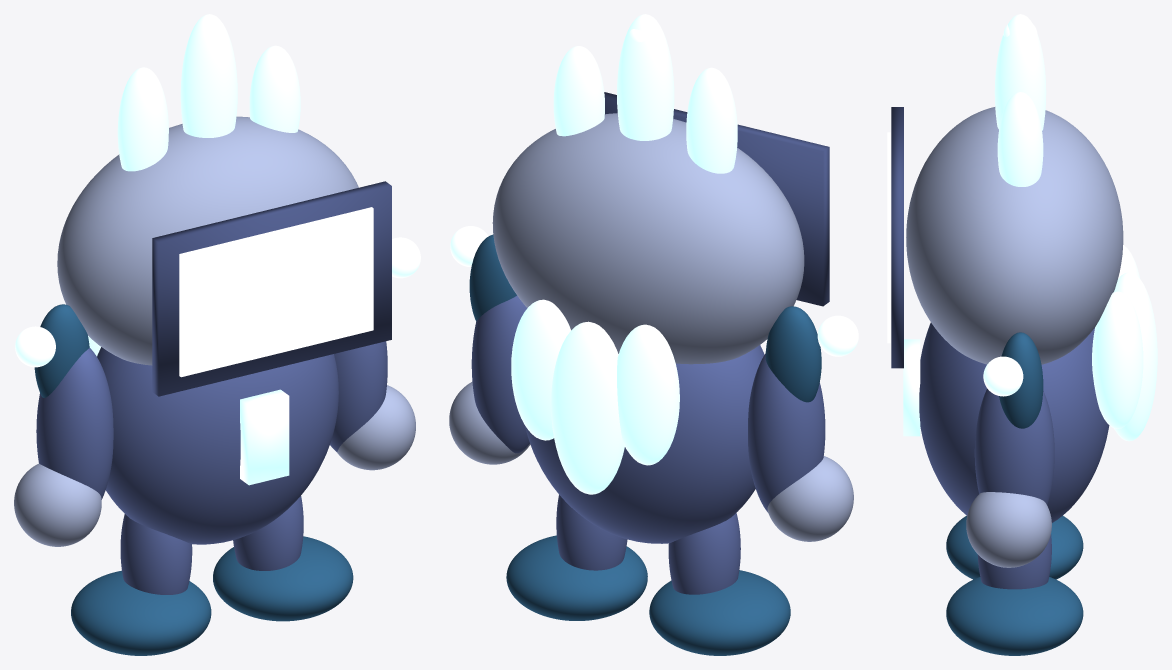
The model's file is glow.glb.
The picture shows the model from 3 angles, left to right: view 1: azimuth 30°, elevation 25°; view 2: azimuth 150°, elevation 25°; view 3: azimuth 270°, elevation 25°; orthographic projection. The views are drawn at different scales.
Parts seen in each view (by area): view 1: head, body, face_screen, face_frame, foot_L, arm_L, foot_R, crystal_head_1, hand_L, crystal_head_0, crystal_chest, leg_L (+7 smaller); view 2: head, body, crystal_back_1, foot_L, face_frame, foot_R, arm_L, crystal_back_0, crystal_head_1, arm_R, crystal_back_2, hand_L (+9 smaller); view 3: head, body, foot_R, arm_R, crystal_back_2, hand_R, crystal_head_1, crystal_head_2, face_frame, crystal_back_1, foot_L, crystal_shoulder_R (+4 smaller).
Part boxes in pixels (x1,y1,x2,y2): head: (57, 116, 358, 365); body: (97, 347, 338, 544); face_screen: (179, 207, 373, 377); face_frame: (152, 181, 391, 396); foot_L: (71, 570, 211, 655); arm_L: (36, 348, 113, 499); foot_R: (213, 536, 353, 621); crystal_head_1: (180, 14, 237, 137); hand_L: (14, 463, 101, 546); crystal_head_0: (117, 67, 168, 171); crystal_chest: (240, 389, 289, 485); leg_L: (120, 514, 192, 594); head: (492, 113, 804, 364); body: (525, 345, 764, 543); crystal_back_1: (551, 321, 624, 494); foot_L: (649, 570, 790, 655); face_frame: (604, 92, 829, 306); foot_R: (506, 535, 647, 620); arm_L: (748, 353, 825, 512); crystal_back_0: (617, 324, 679, 465); crystal_head_1: (617, 14, 674, 140); arm_R: (471, 296, 529, 453); crystal_back_2: (511, 299, 570, 440); hand_L: (767, 456, 853, 541); head: (906, 107, 1123, 364); body: (919, 322, 1109, 522); foot_R: (946, 577, 1083, 655); arm_R: (974, 388, 1054, 504); crystal_back_2: (1092, 291, 1143, 428); hand_R: (966, 492, 1051, 567); crystal_head_1: (994, 14, 1046, 130); crystal_head_2: (997, 92, 1043, 186); face_frame: (891, 107, 903, 368); crystal_back_1: (1114, 272, 1157, 441); foot_L: (946, 515, 1083, 579); crystal_shoulder_R: (999, 332, 1043, 428).
Bounding box in the file's own units: 0.7419 × 1.08 × 0.4442.
